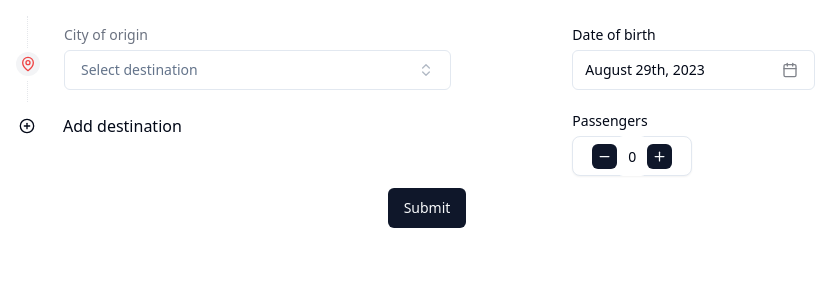
Test case: should display error messages for city and passengers when clicking submit button
Click the button "Submit" at [427, 208], box left=388, top=188, right=466, bottom=228
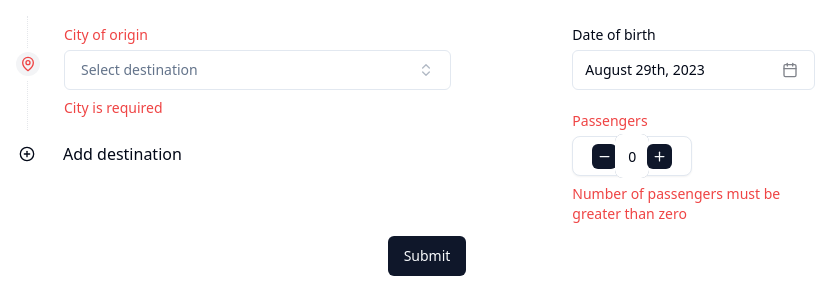
Now the text "City is required" is shown, box left=64, top=98, right=162, bottom=117
Now the text "Number of passengers must be greater than zero" is shown, box left=572, top=184, right=815, bottom=224
